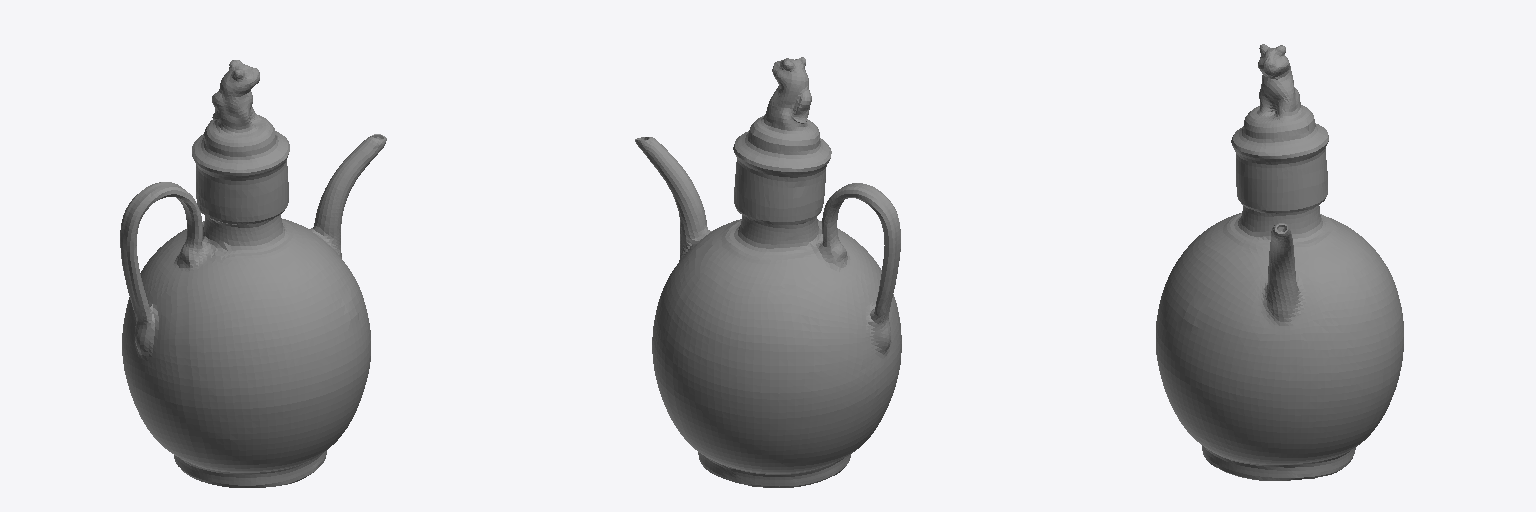
3 views of the same model, side by side, from view 1: azimuth 30°, elevation 25°; view 2: azimuth 150°, elevation 25°; view 3: azimuth 270°, elevation 25° (orthographic).
Parts seen in each view (by area): view 1: objSZB_WY_138; view 2: objSZB_WY_138; view 3: objSZB_WY_138.
Boxes of the visible parts, x1,y1,x2,y2 form: objSZB_WY_138: [120, 60, 386, 487]; objSZB_WY_138: [635, 57, 901, 487]; objSZB_WY_138: [1156, 44, 1403, 480].
Size of the model in its own units: 35.05 by 51.16 by 28.8.